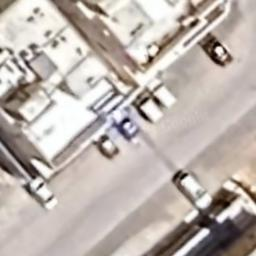SUV: (173, 170, 213, 212)
sedan: (26, 176, 58, 210), (200, 34, 234, 66), (92, 131, 120, 160), (114, 116, 142, 142)
van: (147, 78, 177, 110), (132, 94, 164, 122)
